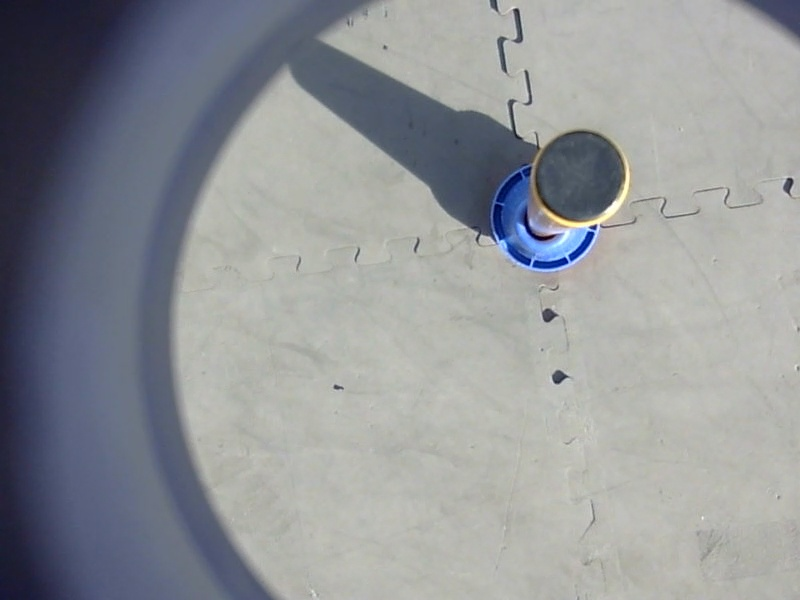tip: (527, 122, 639, 234)
